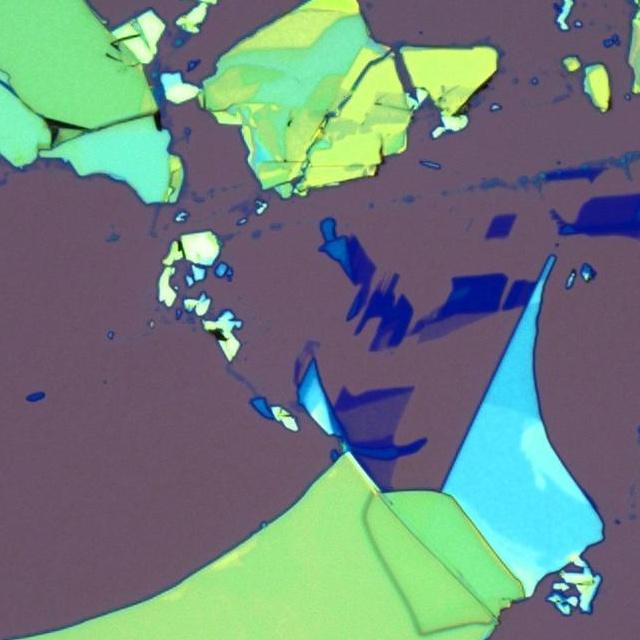monolayer-eWW4: (337, 391, 410, 438), (415, 310, 489, 347), (359, 457, 397, 489)
